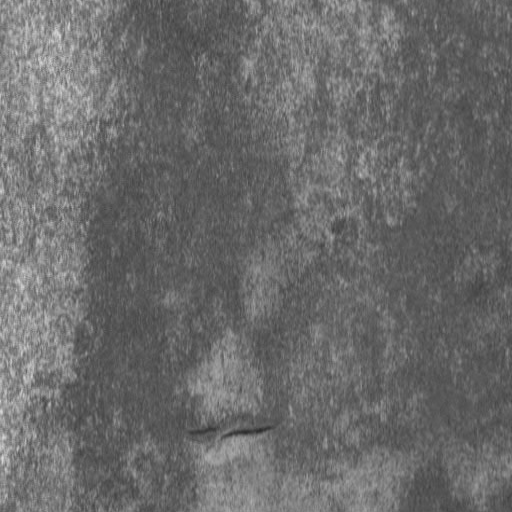hengxiangliewen: (183, 419, 277, 442)
